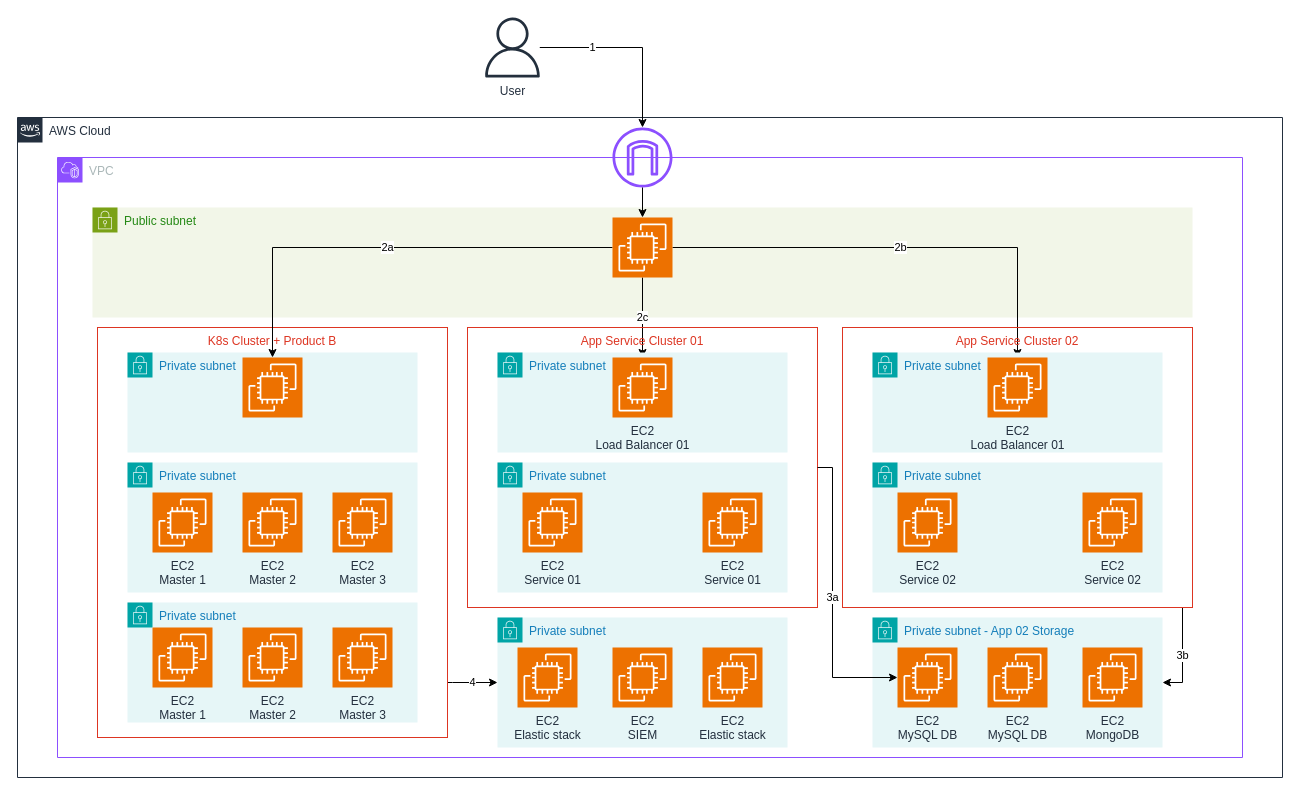
The diagram is 1300 pixels wide and 795 high, and some of its shapes have lost their labels. The centre of each missing label's shape, as x and y in pixels:
"EC2 API Gateway" goes at (x=642, y=247).
"EC2 K8s Load Balancer" goes at (x=272, y=387).
"IGW" goes at (x=642, y=157).
